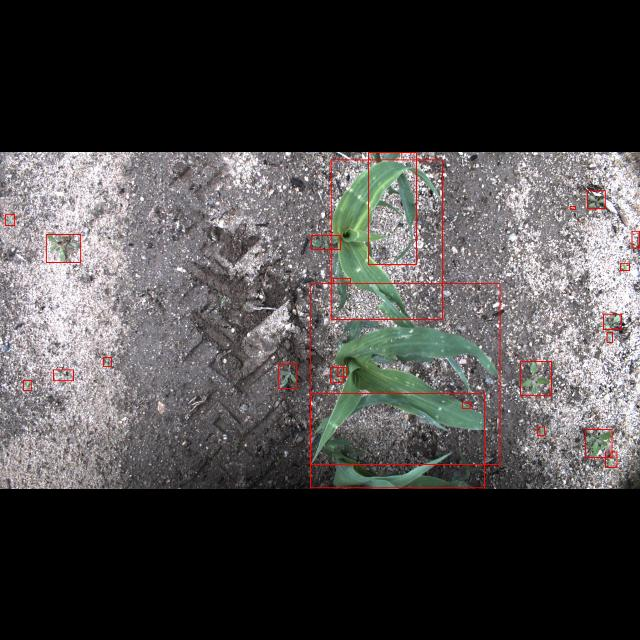crop: (310, 284, 500, 464), (332, 159, 442, 319), (311, 392, 485, 488), (368, 152, 416, 264)
weed: (520, 360, 552, 396), (46, 234, 80, 262), (586, 428, 612, 458), (312, 234, 341, 250), (279, 364, 297, 388), (587, 190, 605, 208), (603, 314, 621, 328), (331, 366, 344, 382), (53, 370, 73, 380), (632, 230, 640, 248), (606, 452, 616, 466), (5, 213, 15, 224), (338, 368, 347, 377), (23, 380, 31, 390), (620, 262, 630, 270), (103, 358, 111, 367), (334, 278, 351, 282), (607, 331, 613, 341), (538, 426, 544, 436), (462, 402, 471, 408), (570, 206, 576, 208)
